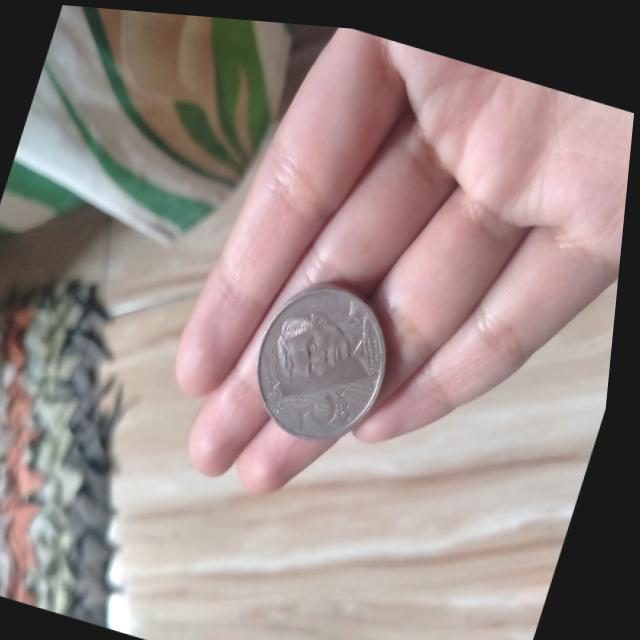5_New_Front: (254, 282, 392, 442)
